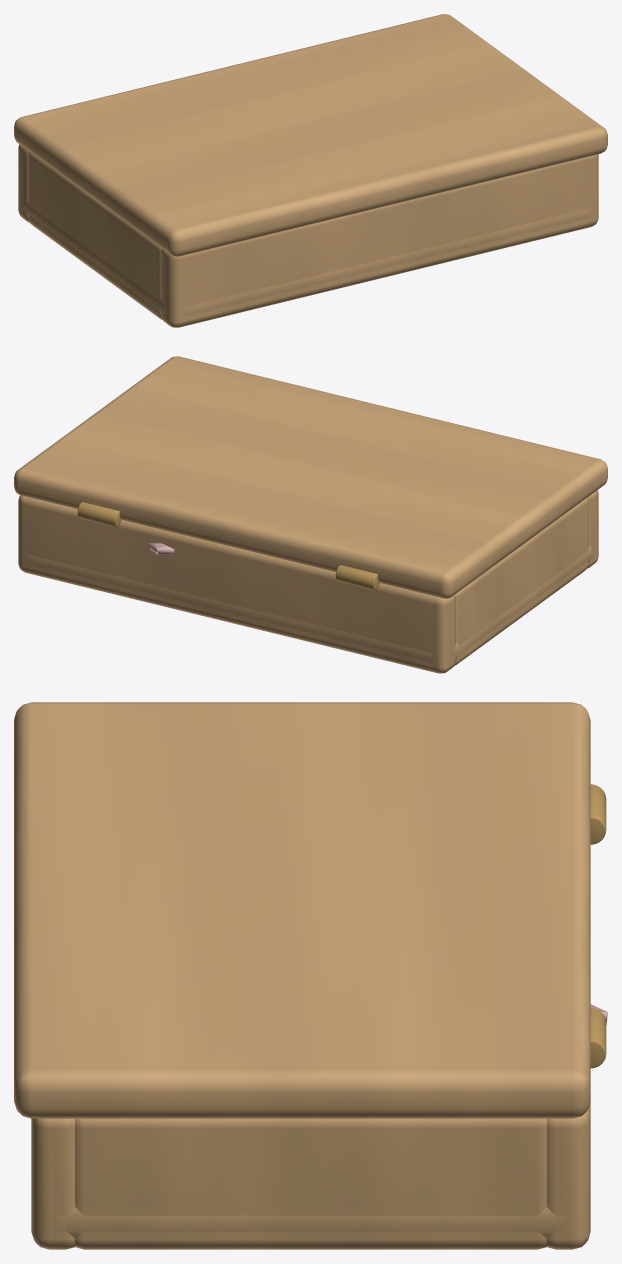
File: gift-12.03346c5aa79e.glb
3 views of the same model, one above another, from view 1: azimuth 30°, elevation 25°; view 2: azimuth 150°, elevation 25°; view 3: azimuth 270°, elevation 25° (orthographic). The views are drawn at different scales.
Visible parts, largest first — view 1: Paper_flower_case_rounded_lid, PART_GIFT_12_ROOT_MAT_honey_wood; view 2: Paper_flower_case_rounded_lid, PART_GIFT_12_ROOT_MAT_honey_wood, PART_GIFT_12_ROOT_MAT_soft_brass; view 3: Paper_flower_case_rounded_lid, PART_GIFT_12_ROOT_MAT_honey_wood, PART_GIFT_12_ROOT_MAT_soft_brass.
Boxes of the visible parts, x1,y1,x2,y2 form: Paper_flower_case_rounded_lid: [14, 14, 607, 256]; PART_GIFT_12_ROOT_MAT_honey_wood: [18, 144, 598, 327]; Paper_flower_case_rounded_lid: [14, 356, 607, 598]; PART_GIFT_12_ROOT_MAT_honey_wood: [18, 490, 598, 673]; PART_GIFT_12_ROOT_MAT_soft_brass: [77, 502, 379, 590]; Paper_flower_case_rounded_lid: [14, 702, 590, 1118]; PART_GIFT_12_ROOT_MAT_honey_wood: [31, 1101, 590, 1249]; PART_GIFT_12_ROOT_MAT_soft_brass: [590, 784, 606, 1068].
Size of the model in its own units: 0.103 by 0.023 by 0.068.
Materials: 5 (1 with a texture image).
